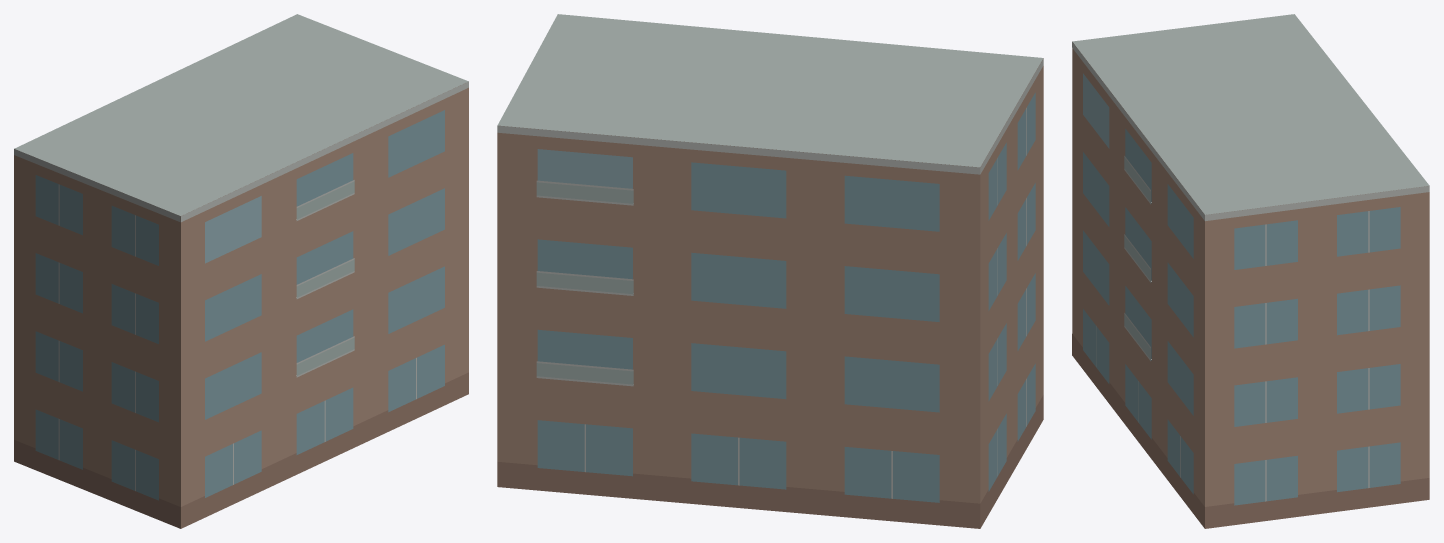
Rendered from survey-upis-32660930.glb.
3 views of the same model, side by side, from view 1: azimuth 30°, elevation 25°; view 2: azimuth 150°, elevation 25°; view 3: azimuth 270°, elevation 25° (orthographic). The views are drawn at different scales.
Parts seen in each view (by area): view 1: survey-upis-32660930.tmp; view 2: survey-upis-32660930.tmp; view 3: survey-upis-32660930.tmp.
Part boxes in pixels (x1,y1,x2,y2): survey-upis-32660930.tmp: [14, 14, 468, 528]; survey-upis-32660930.tmp: [497, 14, 1043, 528]; survey-upis-32660930.tmp: [1072, 14, 1429, 528].
Size of the model in its own units: 16.75 by 12.2 by 12.6.
